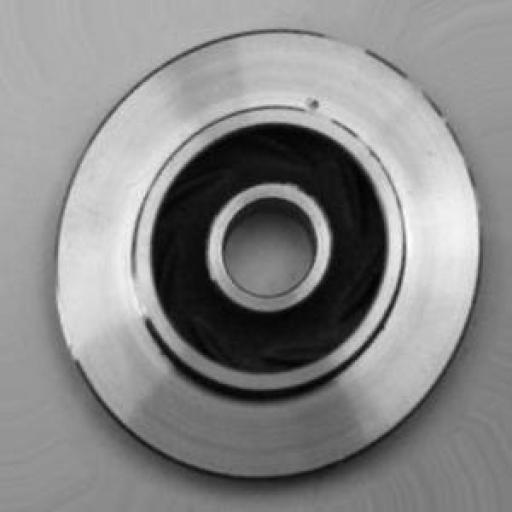defect: (270, 70, 350, 148)
